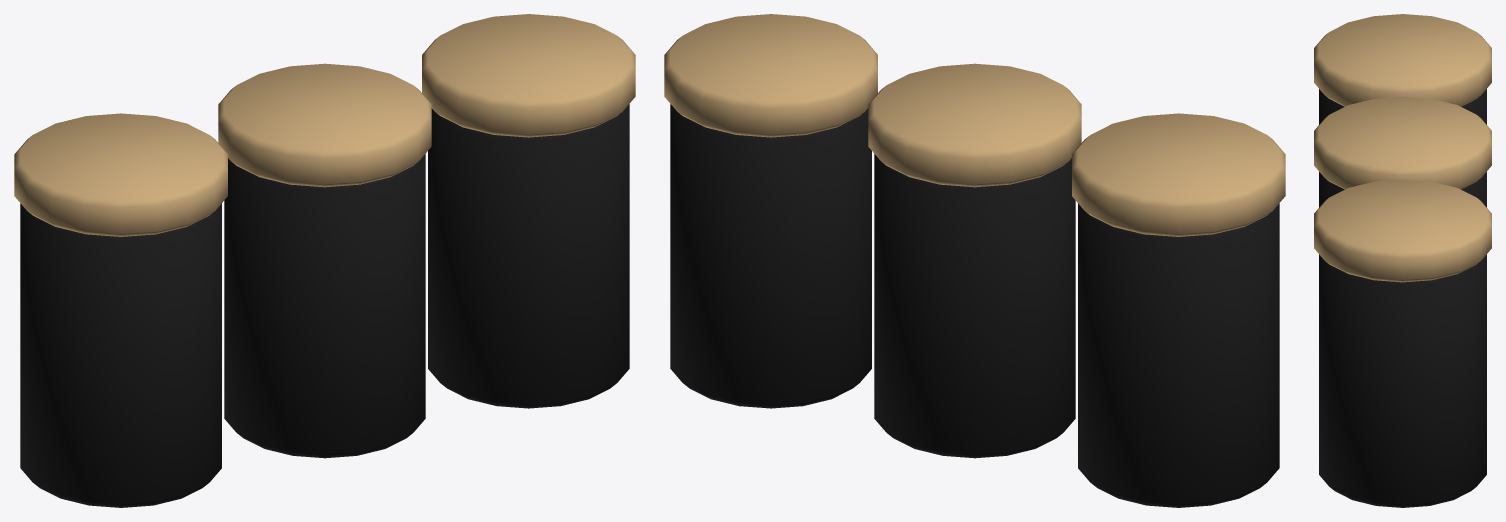
The model's file is i_jars_4.glb.
3 renders of one model, left to right at view 1: azimuth 30°, elevation 25°; view 2: azimuth 150°, elevation 25°; view 3: azimuth 270°, elevation 25°, orthographic. The views are drawn at different scales.
Parts seen in each view (by area): view 1: o, o.004, o.002, o.001, o.003, o.005; view 2: o, o.004, o.002, o.001, o.003, o.005; view 3: o.004, o.005, o.003, o.001, o.002, o.
Boxes of the visible parts, x1,y1,x2,y2 form: o: [20, 203, 221, 507]; o.004: [428, 104, 629, 408]; o.002: [224, 154, 425, 458]; o.001: [14, 113, 227, 236]; o.003: [218, 63, 431, 187]; o.005: [422, 14, 635, 137]; o: [1078, 203, 1279, 507]; o.004: [670, 104, 871, 408]; o.002: [874, 154, 1075, 458]; o.001: [1072, 113, 1285, 236]; o.003: [868, 63, 1081, 187]; o.005: [664, 14, 877, 137]; o.004: [1319, 254, 1486, 507]; o.005: [1314, 179, 1491, 282]; o.003: [1314, 96, 1491, 189]; o.001: [1314, 14, 1491, 106]; o.002: [1319, 172, 1486, 207]; o: [1319, 89, 1486, 124].
Bounding box in the file's own units: 0.336 × 0.168 × 0.1044.
